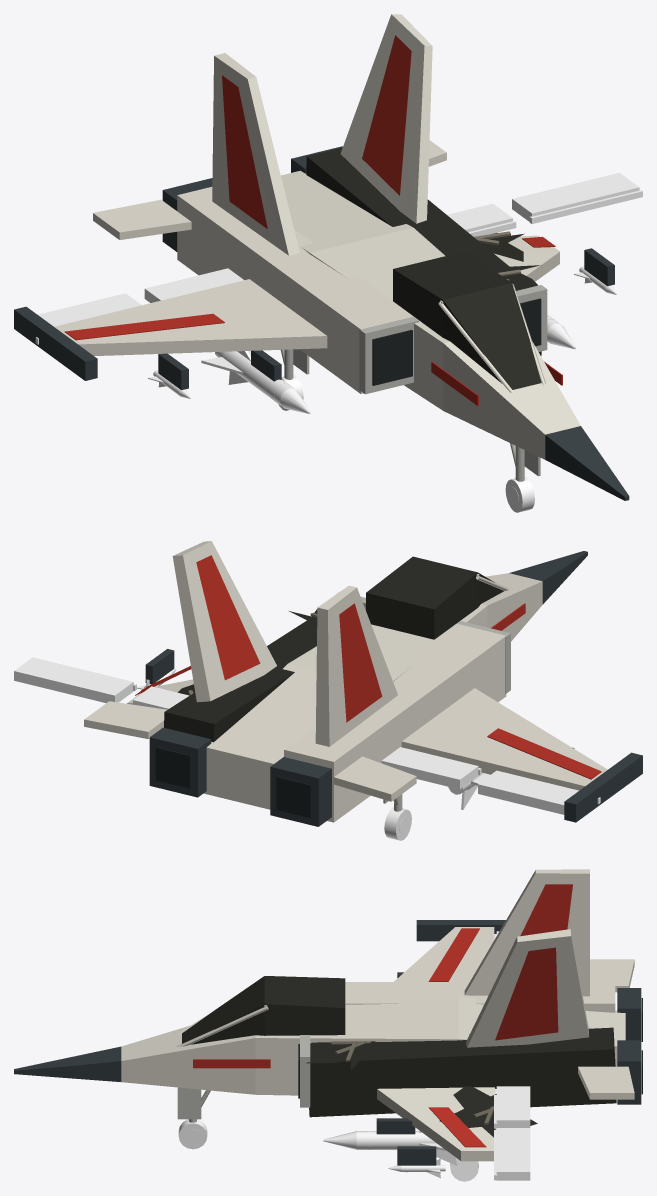
3 views of the same model, one above another, from view 1: azimuth 30°, elevation 25°; view 2: azimuth 150°, elevation 25°; view 3: azimuth 270°, elevation 25° (orthographic). The views are drawn at different scales.
Visible parts, largest first — view 1: jet-b-damaged-fleet-armor, jet-b-damaged-fleet-damage-charred, jet-b-damaged-fleet-red, jet-b-damaged-fleet-machine, aileron-right-painted, jet-b-damaged-fleet-rubber, elevator-left-fleet-armor, jet-b-damaged-fleet-edge, store-left-large-painted, flap-left-painted, aileron-left-painted, flap-right-painted (+2 smaller); view 2: jet-b-damaged-fleet-armor, jet-b-damaged-fleet-damage-charred, jet-b-damaged-fleet-machine, jet-b-damaged-fleet-red, aileron-right-painted, aileron-left-painted, jet-b-damaged-fleet-rubber, flap-left-painted, elevator-left-fleet-armor, elevator-right-fleet-armor, flap-right-painted, gear-wheel-left-0-0-painted (+2 smaller); view 3: jet-b-damaged-fleet-armor, jet-b-damaged-fleet-damage-charred, jet-b-damaged-fleet-red, jet-b-damaged-fleet-machine, aileron-right-painted, store-right-large-painted, elevator-right-fleet-armor, flap-right-painted, elevator-left-fleet-armor, landing-gear-nose-fleet-edge, jet-b-damaged-fleet-edge, gear-wheel-nose-0-0-painted (+3 smaller).
Boxes of the visible parts, x1=… form: jet-b-damaged-fleet-armor: x1=54, y1=14, x2=580, y2=459; jet-b-damaged-fleet-damage-charred: x1=306, y1=147, x2=541, y2=389; jet-b-damaged-fleet-red: x1=64, y1=35, x2=562, y2=405; jet-b-damaged-fleet-machine: x1=14, y1=146, x2=629, y2=500; aileron-right-painted: x1=512, y1=172, x2=642, y2=223; jet-b-damaged-fleet-rubber: x1=372, y1=298, x2=541, y2=385; elevator-left-fleet-armor: x1=93, y1=199, x2=191, y2=239; jet-b-damaged-fleet-edge: x1=359, y1=285, x2=547, y2=394; store-left-large-painted: x1=201, y1=351, x2=310, y2=413; flap-left-painted: x1=144, y1=268, x2=243, y2=302; aileron-left-painted: x1=35, y1=293, x2=141, y2=344; flap-right-painted: x1=447, y1=203, x2=516, y2=236; jet-b-damaged-fleet-armor: x1=127, y1=541, x2=607, y2=822; jet-b-damaged-fleet-damage-charred: x1=164, y1=556, x2=503, y2=742; jet-b-damaged-fleet-machine: x1=145, y1=551, x2=642, y2=826; jet-b-damaged-fleet-red: x1=135, y1=555, x2=601, y2=779; aileron-right-painted: x1=14, y1=657, x2=136, y2=703; aileron-left-painted: x1=478, y1=770, x2=600, y2=814; jet-b-damaged-fleet-rubber: x1=155, y1=747, x2=311, y2=817; flap-left-painted: x1=381, y1=747, x2=481, y2=789; elevator-left-fleet-armor: x1=334, y1=756, x2=416, y2=801; elevator-right-fleet-armor: x1=84, y1=701, x2=167, y2=738; flap-right-painted: x1=133, y1=686, x2=189, y2=709; gear-wheel-left-0-0-painted: x1=384, y1=807, x2=411, y2=840; jet-b-damaged-fleet-armor: x1=121, y1=869, x2=625, y2=1161; jet-b-damaged-fleet-damage-charred: x1=182, y1=976, x2=616, y2=1137; jet-b-damaged-fleet-red: x1=193, y1=884, x2=572, y2=1147; jet-b-damaged-fleet-machine: x1=14, y1=920, x2=641, y2=1165; aileron-right-painted: x1=494, y1=1128, x2=530, y2=1180; store-right-large-painted: x1=323, y1=1131, x2=456, y2=1165; elevator-right-fleet-armor: x1=578, y1=1066, x2=634, y2=1099; flap-right-painted: x1=494, y1=1086, x2=530, y2=1128; elevator-left-fleet-armor: x1=590, y1=959, x2=634, y2=992; landing-gear-nose-fleet-edge: x1=177, y1=1087, x2=210, y2=1122; jet-b-damaged-fleet-edge: x1=300, y1=1035, x2=310, y2=1107; gear-wheel-nose-0-0-painted: x1=178, y1=1119, x2=207, y2=1149.
Bounding box in the file's own units: 50.89 × 24.7 × 54.74.
